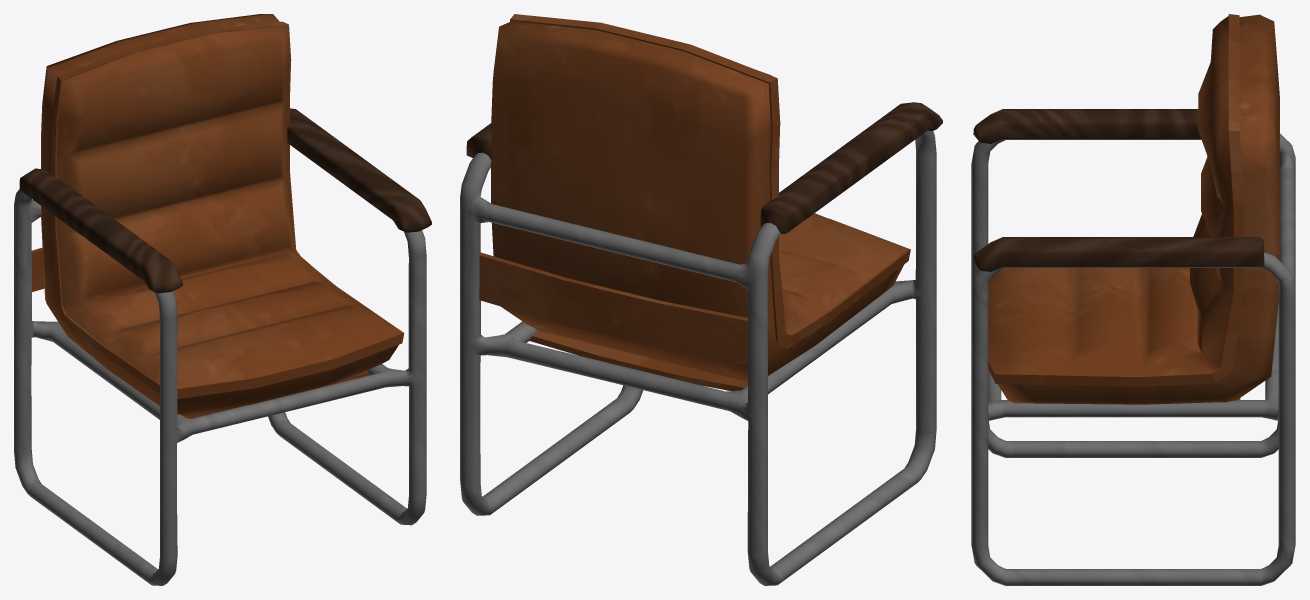
The model's file is arm-chair.glb.
3 renders of one model, left to right at view 1: azimuth 30°, elevation 25°; view 2: azimuth 150°, elevation 25°; view 3: azimuth 270°, elevation 25°, orthographic. The views are drawn at different scales.
Parts seen in each view (by area): view 1: Arm_Chair; view 2: Arm_Chair; view 3: Arm_Chair.
Boxes of the visible parts, x1,y1,x2,y2 form: Arm_Chair: (14,14,431,585); Arm_Chair: (460,14,942,585); Arm_Chair: (971,14,1295,585).
Bounding box in the file's own units: 0.8369 × 1.26 × 0.8039.
3 materials, 3 textured.
